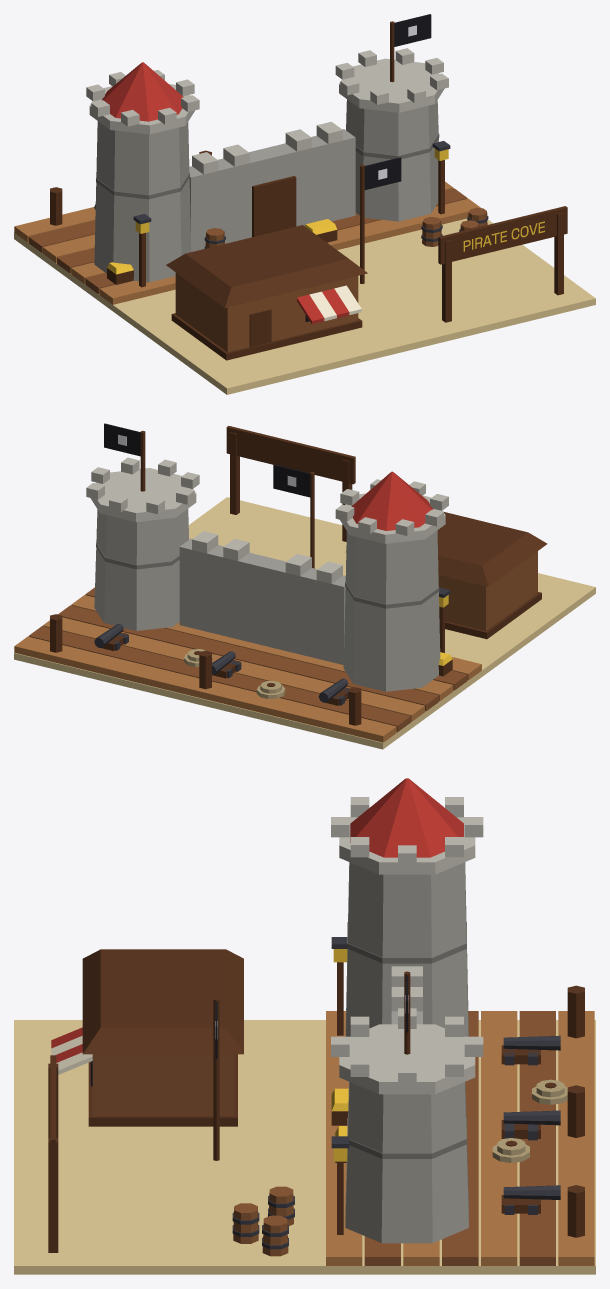
Rendered from pirate-cove-t3.glb.
The picture shows the model from 3 angles, top to bottom: view 1: azimuth 30°, elevation 25°; view 2: azimuth 150°, elevation 25°; view 3: azimuth 270°, elevation 25°; orthographic projection. The views are drawn at different scales.
Visible parts, largest first — view 1: PirateCoveT3; view 2: PirateCoveT3; view 3: PirateCoveT3.
Part boxes in pixels (x1,y1,x2,y2): PirateCoveT3: [14, 14, 595, 394]; PirateCoveT3: [14, 423, 595, 749]; PirateCoveT3: [14, 778, 595, 1274].
Size of the model in its own units: 2.96 by 1.63 by 2.96.
Materials: 1 (1 with a texture image).
